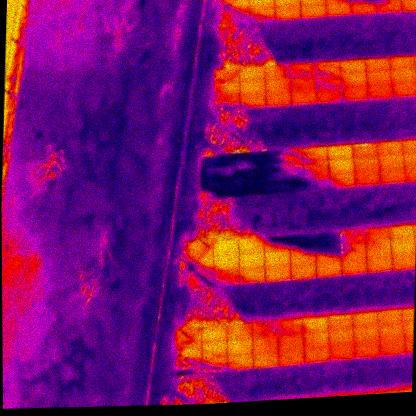Hotspot: (327, 313, 354, 333), (352, 142, 378, 160), (214, 66, 241, 83), (365, 57, 391, 73), (214, 80, 239, 96)
Normal: (264, 265, 292, 284), (213, 237, 241, 256), (200, 324, 228, 343), (354, 327, 380, 347), (352, 311, 378, 331), (316, 259, 343, 278), (342, 257, 369, 276), (264, 249, 291, 268), (328, 158, 355, 177), (252, 337, 279, 356), (328, 329, 355, 348), (392, 251, 416, 272), (379, 168, 407, 186), (377, 309, 403, 328), (353, 156, 379, 175), (265, 76, 291, 95), (303, 332, 329, 351), (379, 324, 405, 343), (290, 262, 317, 280), (213, 252, 240, 270), (379, 154, 406, 172), (226, 339, 253, 357), (277, 334, 304, 352), (291, 89, 319, 106), (367, 255, 393, 273), (238, 236, 264, 254), (328, 144, 354, 162), (342, 70, 368, 88), (239, 66, 265, 84), (305, 347, 331, 365), (380, 339, 406, 357), (238, 252, 265, 269), (366, 241, 393, 258), (265, 90, 292, 107), (303, 316, 328, 334), (378, 141, 404, 158), (240, 92, 266, 109), (342, 85, 368, 102), (275, 5, 301, 22), (327, 2, 353, 19), (227, 324, 253, 341), (392, 81, 416, 99), (300, 4, 327, 20), (390, 225, 415, 242), (391, 55, 416, 72), (356, 343, 381, 360), (355, 172, 381, 188), (367, 70, 393, 86), (201, 341, 227, 357), (392, 68, 416, 85), (368, 84, 393, 100), (240, 79, 265, 95), (340, 59, 365, 75), (279, 351, 304, 367), (331, 345, 356, 361), (391, 240, 415, 256), (253, 354, 279, 368), (377, 0, 401, 15), (352, 2, 377, 16), (249, 0, 275, 9), (400, 0, 416, 13), (275, 0, 300, 8), (300, 0, 326, 7)
Shadow: (187, 254, 215, 274), (213, 266, 240, 286), (289, 246, 317, 265), (238, 266, 265, 285), (303, 145, 330, 164), (213, 93, 240, 112), (290, 73, 317, 92), (201, 355, 228, 374), (338, 228, 366, 246), (225, 152, 253, 170), (201, 182, 227, 201), (201, 167, 227, 186), (277, 318, 303, 337), (263, 235, 290, 253), (315, 230, 342, 248), (277, 163, 304, 181), (316, 86, 343, 104), (315, 245, 343, 262), (251, 179, 279, 196), (276, 148, 304, 165), (252, 320, 277, 339), (365, 226, 391, 244), (176, 357, 202, 375), (224, 7, 250, 25), (176, 326, 202, 344), (188, 271, 215, 288), (340, 242, 367, 259), (289, 232, 316, 249), (226, 181, 253, 198), (278, 178, 305, 195), (304, 176, 331, 193), (303, 161, 330, 178), (227, 354, 254, 371), (289, 62, 317, 78), (188, 240, 214, 257), (226, 166, 252, 183), (176, 342, 202, 359), (315, 73, 342, 89), (252, 150, 277, 167), (264, 65, 290, 81), (202, 153, 226, 170), (251, 165, 278, 180), (316, 60, 341, 76), (251, 6, 276, 22), (331, 173, 356, 188), (224, 0, 249, 10), (352, 0, 376, 5), (325, 0, 352, 4), (375, 0, 400, 2)
